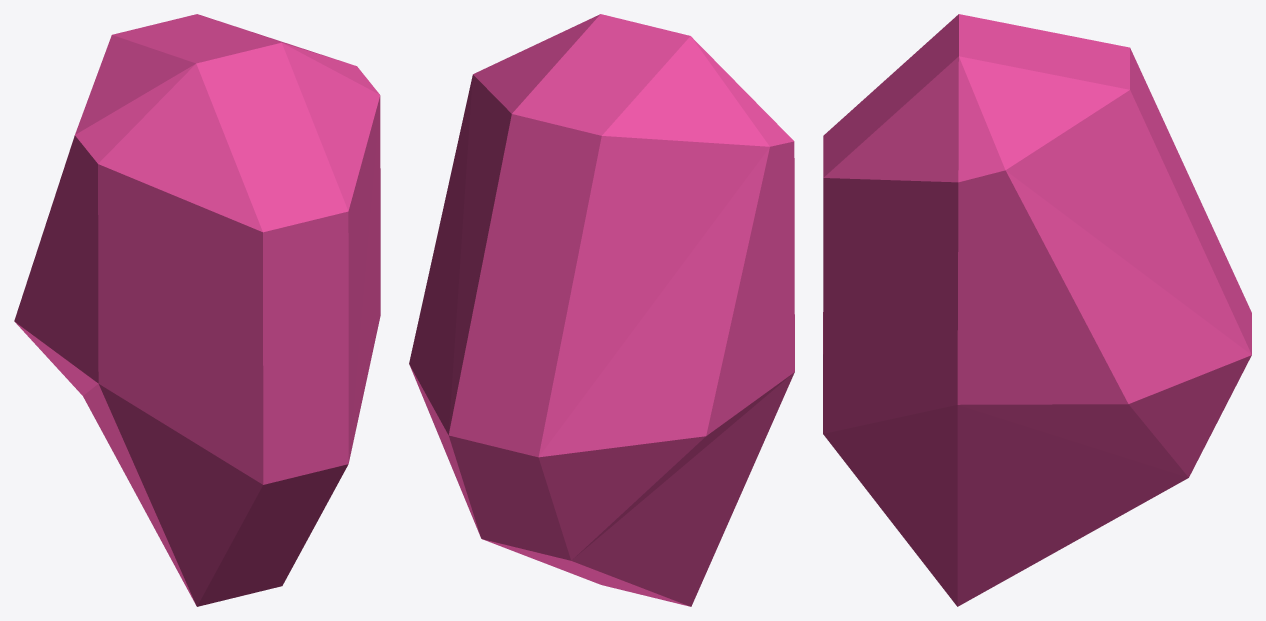
File: cavorit-chrystal-3.glb
3 views of the same model, side by side, from view 1: azimuth 30°, elevation 25°; view 2: azimuth 150°, elevation 25°; view 3: azimuth 270°, elevation 25° (orthographic). The views are drawn at different scales.
Parts seen in each view (by area): view 1: connector; view 2: connector; view 3: connector.
Boxes of the visible parts, x1,y1,x2,y2 form: connector: (14, 14, 380, 606); connector: (409, 14, 794, 606); connector: (823, 14, 1251, 606).
Size of the model in its own units: 12.24 by 22.49 by 15.87.
